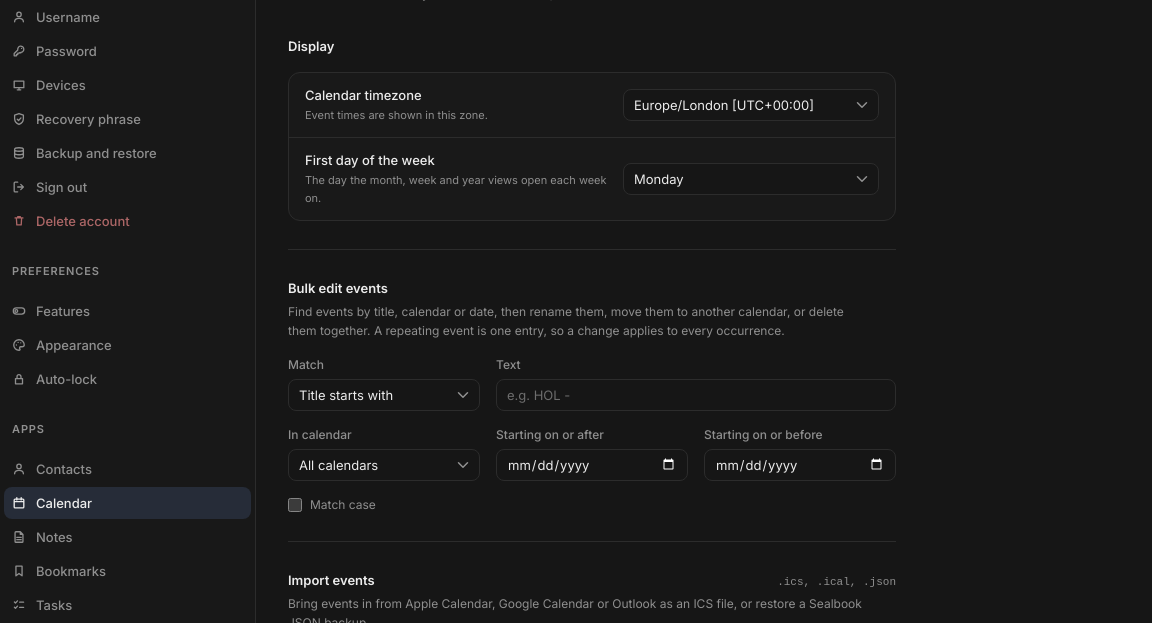
Test: Bulk edit events › strips the prefix and moves the selection, keeping unknown keys
The image size is (1152, 623).
Type "HOL - " into the field labelled "Text" at (696, 395), box [496,379,896,411]
(page scrolled)
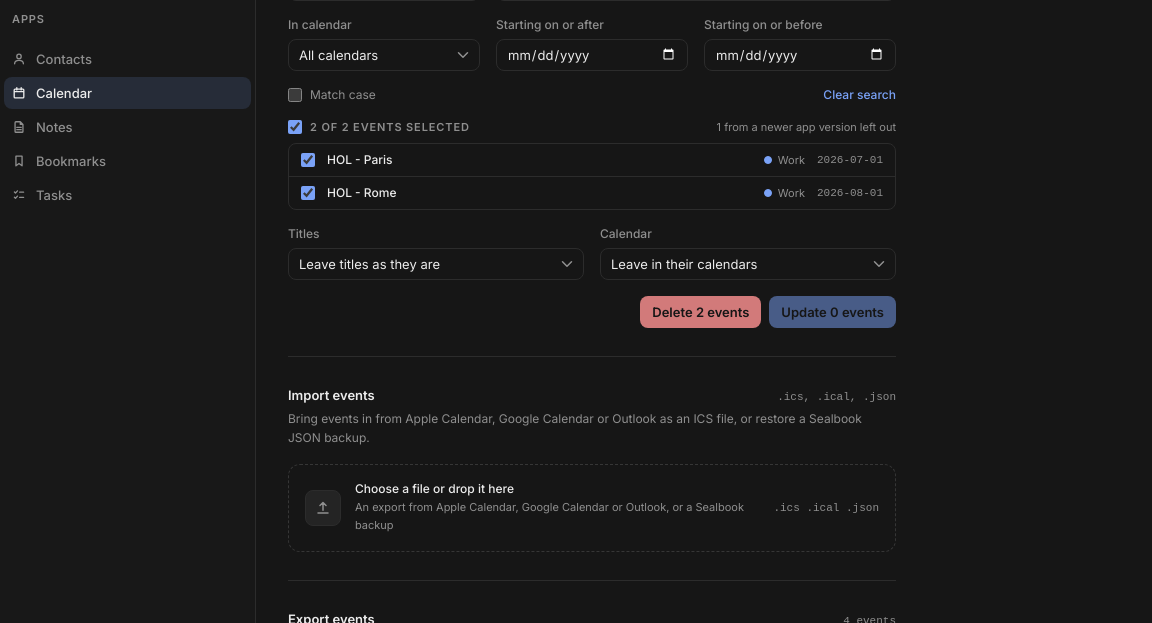
Select "Remove the matched text" in the dropdown labelled "Titles" at (436, 264), box [288,248,584,280]
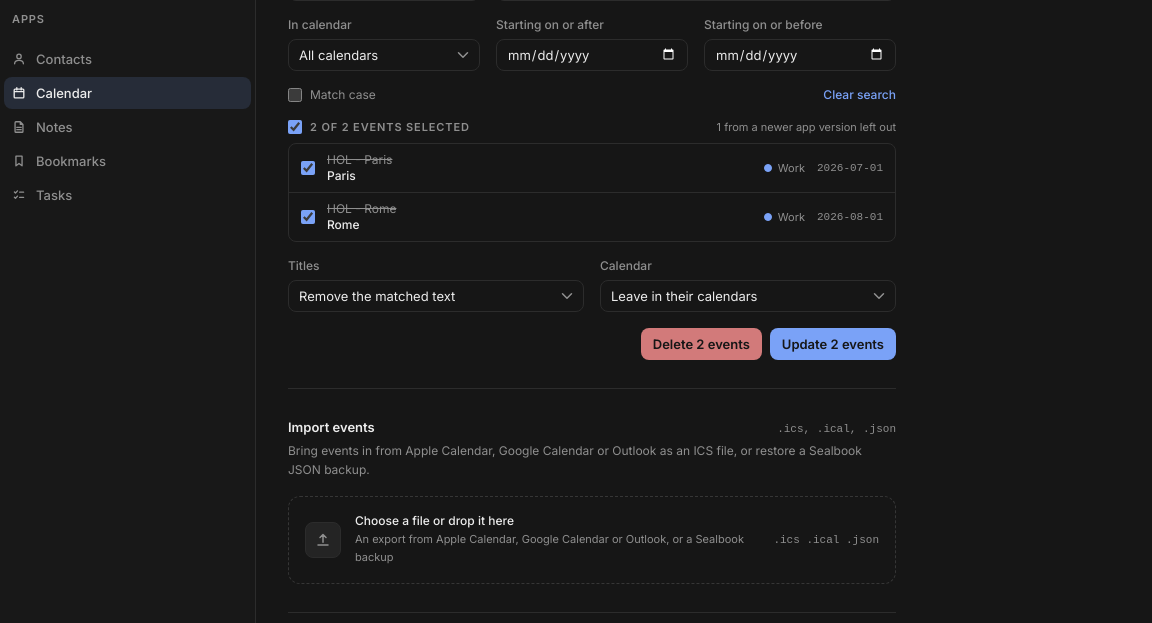
Select "Move to Holidays" in the dropdown labelled "Calendar" at (748, 296), box [600,280,896,312]
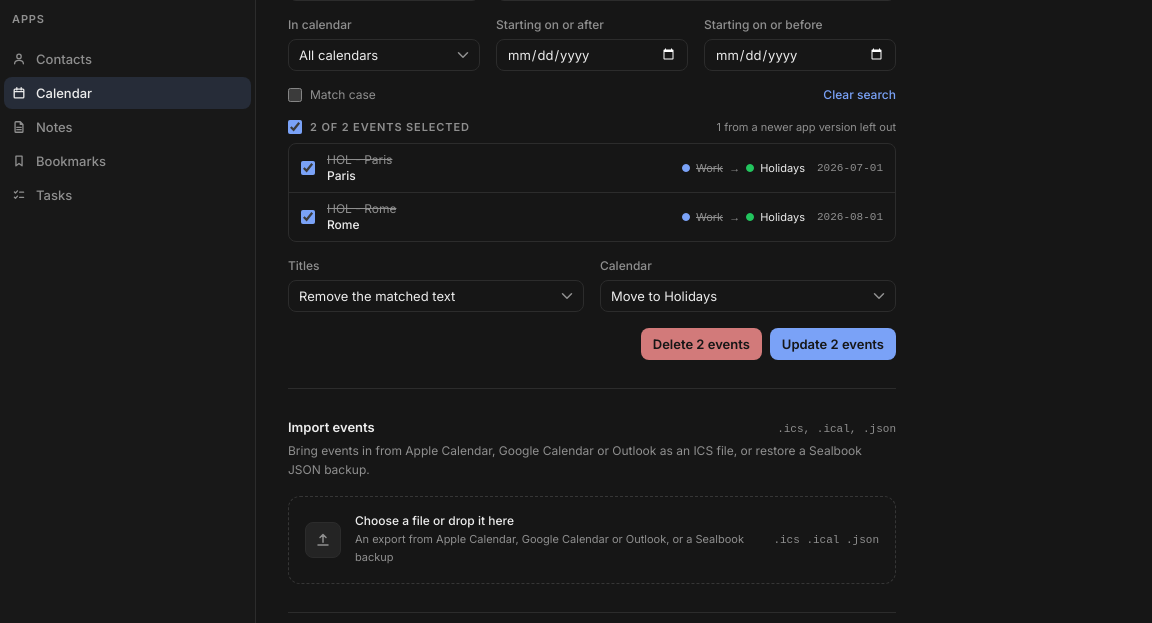
Click the button "Update 2 events" at (833, 344), box [770,328,896,360]
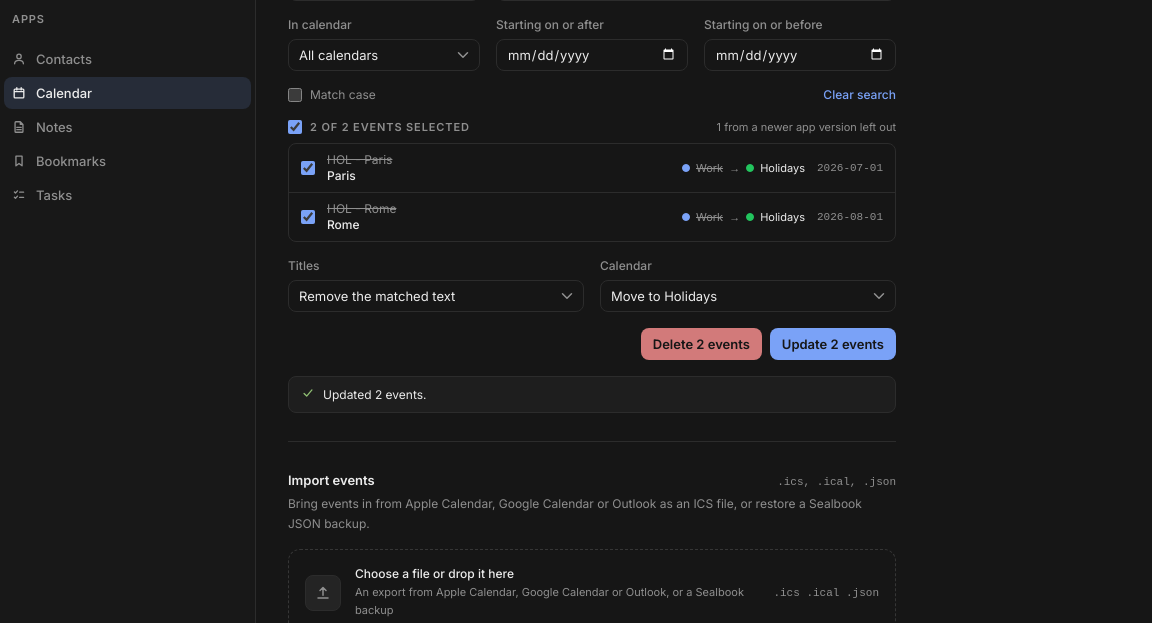
Now the text "Updated 2 events." is shown, box [323,385,426,404]
